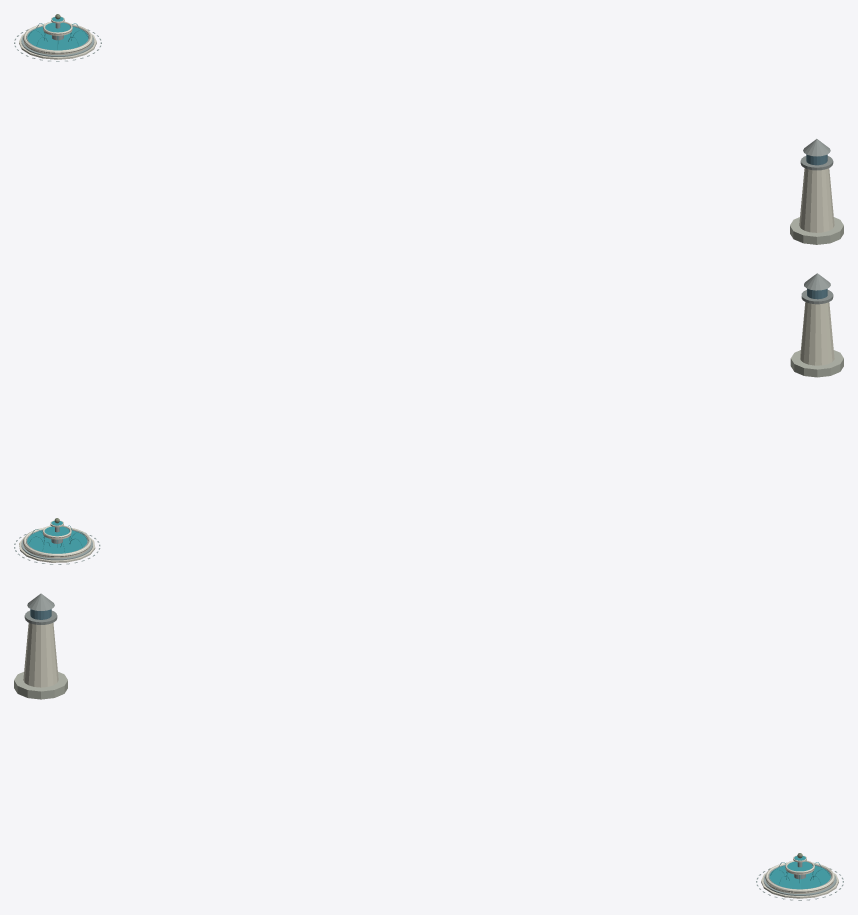
Rendered from 09_Landmarks.glb.
The picture shows the model from 3 angles, top to bottom: view 1: azimuth 90°, elevation 25°; view 2: azimuth 150°, elevation 25°; view 3: azimuth 270°, elevation 25°; orthographic projection.
Parts seen in each view (by area): view 1: Lighthouse taper, Fountain basin visible water, Lighthouse stepped plinth; view 2: Lighthouse taper, Fountain basin visible water, Lighthouse stepped plinth; view 3: Lighthouse taper, Fountain basin visible water, Lighthouse stepped plinth.
Boxes of the visible parts, left/top/right/bottom form: Lighthouse taper: left=799, top=168, right=834, bottom=232; Fountain basin visible water: left=27, top=26, right=88, bottom=50; Lighthouse stepped plinth: left=790, top=217, right=843, bottom=244; Lighthouse taper: left=800, top=302, right=834, bottom=365; Fountain basin visible water: left=27, top=530, right=87, bottom=553; Lighthouse stepped plinth: left=790, top=350, right=843, bottom=377; Lighthouse taper: left=23, top=623, right=58, bottom=687; Fountain basin visible water: left=769, top=865, right=830, bottom=889; Lighthouse stepped plinth: left=14, top=672, right=67, bottom=699.
Bounding box in the file's own units: 67.98 × 13.81 × 107.
